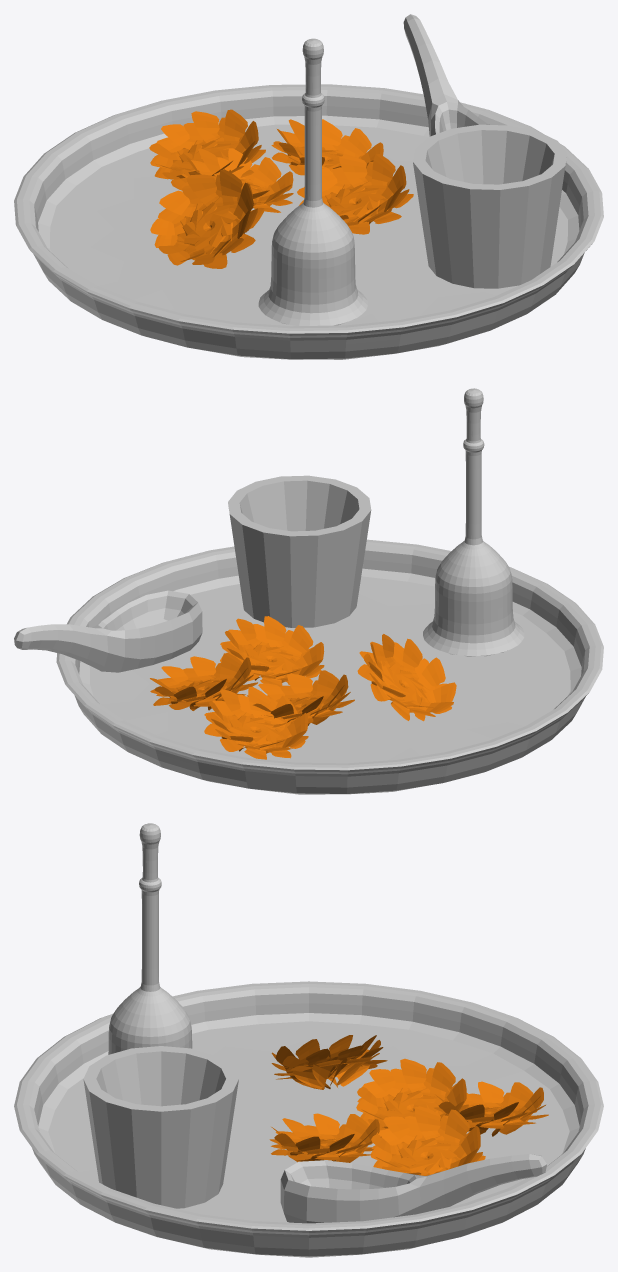
The model's file is havanprop5.fbx.
3 renders of one model, top to bottom at view 1: azimuth 30°, elevation 25°; view 2: azimuth 150°, elevation 25°; view 3: azimuth 270°, elevation 25°, orthographic. The views are drawn at different scales.
Parts seen in each view (by area): view 1: Cylinder.006, Cylinder.007, Cylinder.017, Cube.221, Cube.222, Cube.226, Cube.224, Cube.223, Cube.225; view 2: Cylinder.006, Cylinder.007, Cylinder.017, Cube.224, Cube.221, Cube.226, Cube.222, Cube.225, Cube.223; view 3: Cylinder.006, Cylinder.007, Cube.224, Cylinder.017, Cube.225, Cube.223, Cube.222, Cube.221, Cube.226.
Part boxes in pixels (left/top/right/bottom): Cylinder.006: left=14, top=84, right=603, bottom=359; Cylinder.007: left=413, top=124, right=567, bottom=288; Cylinder.017: left=258, top=38, right=367, bottom=325; Cube.221: left=150, top=169, right=264, bottom=268; Cube.222: left=297, top=154, right=413, bottom=234; Cube.226: left=149, top=109, right=265, bottom=190; Cube.224: left=403, top=14, right=488, bottom=136; Cube.223: left=181, top=148, right=293, bottom=212; Cube.225: left=271, top=119, right=383, bottom=175; Cylinder.006: left=56, top=539, right=603, bottom=794; Cylinder.007: left=228, top=475, right=371, bottom=627; Cylinder.017: left=423, top=388, right=524, bottom=656; Cube.224: left=14, top=590, right=202, bottom=672; Cube.221: left=357, top=634, right=456, bottom=721; Cube.226: left=204, top=687, right=308, bottom=759; Cube.222: left=220, top=616, right=324, bottom=686; Cube.225: left=150, top=653, right=257, bottom=710; Cube.223: left=247, top=670, right=354, bottom=727; Cylinder.006: left=14, top=981, right=603, bottom=1257; Cylinder.007: left=83, top=1046, right=238, bottom=1208; Cube.224: left=280, top=1154, right=546, bottom=1223; Cylinder.017: left=108, top=823, right=192, bottom=1054; Cube.225: left=370, top=1106, right=485, bottom=1175; Cube.223: left=356, top=1058, right=468, bottom=1130; Cube.222: left=269, top=1113, right=381, bottom=1162; Cube.221: left=271, top=1035, right=387, bottom=1089; Cube.226: left=434, top=1081, right=548, bottom=1136.
Size of the model in its own units: 33.81 by 18.61 by 33.81.
